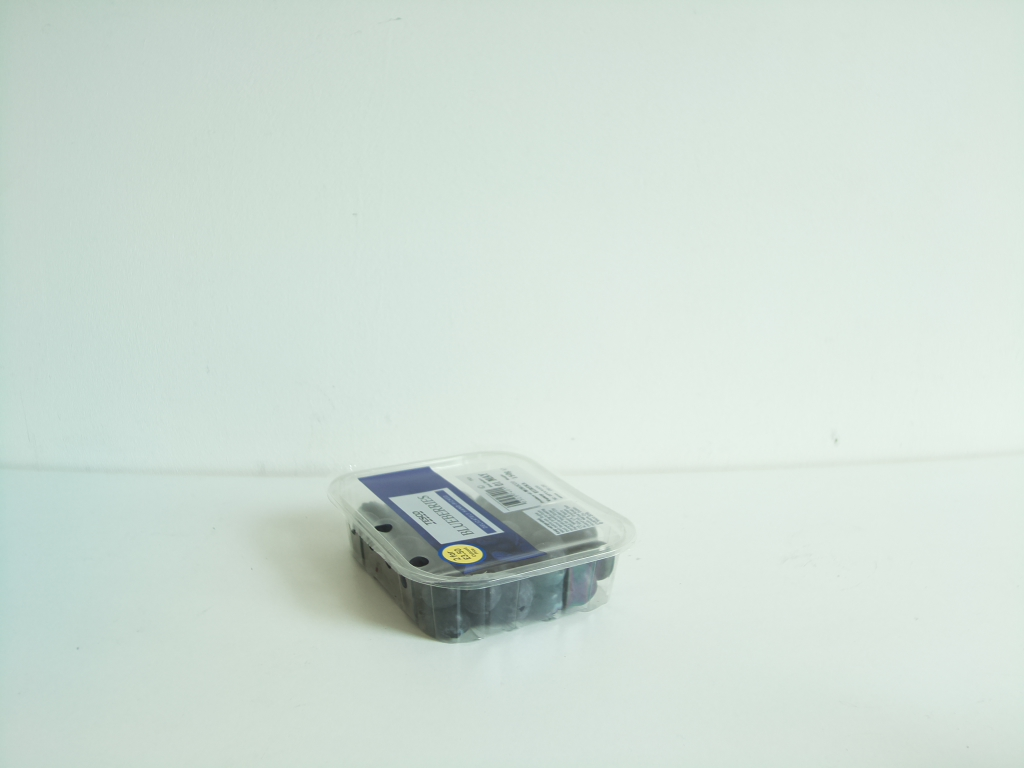soft-fruit: (333, 459, 631, 640)
